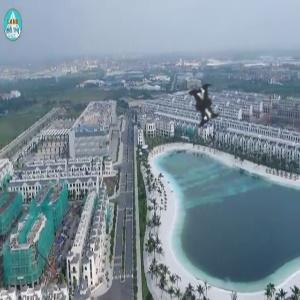drone: (148, 54, 255, 161)
